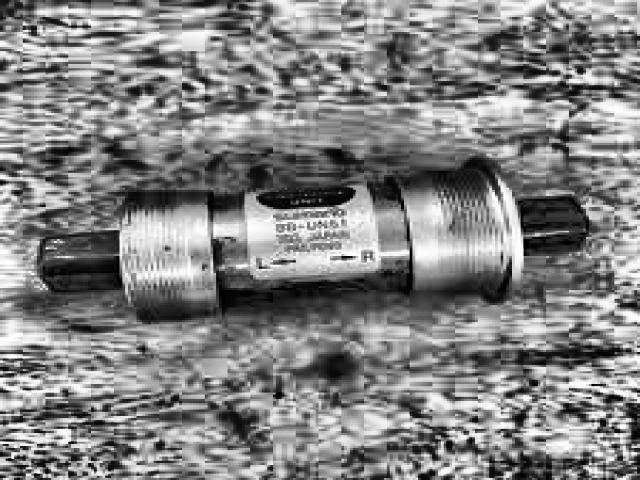bottom_bracket: (30, 154, 592, 324)
